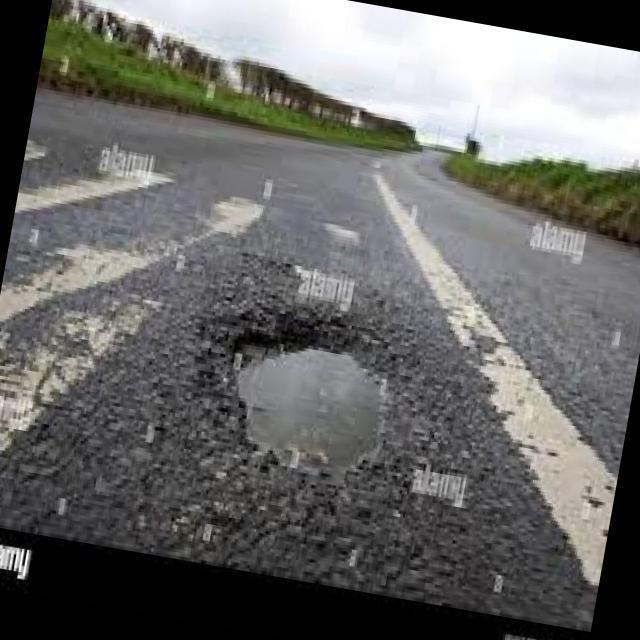Pothole: (233, 345, 385, 483)
